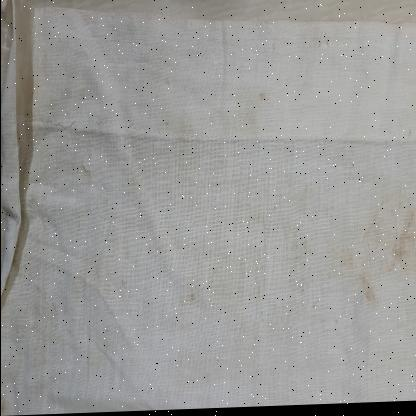spot: (320, 199, 413, 329), (12, 262, 72, 344), (371, 234, 405, 272), (354, 234, 396, 263), (290, 241, 309, 273), (78, 159, 93, 191), (344, 264, 364, 282), (0, 394, 11, 416), (258, 92, 268, 111), (364, 291, 374, 308), (295, 252, 305, 268), (210, 268, 221, 280), (299, 285, 306, 303), (358, 97, 368, 109), (268, 204, 278, 215), (187, 291, 194, 306), (406, 131, 412, 145), (119, 279, 125, 292), (312, 303, 316, 318), (102, 329, 108, 337), (332, 321, 338, 329)
